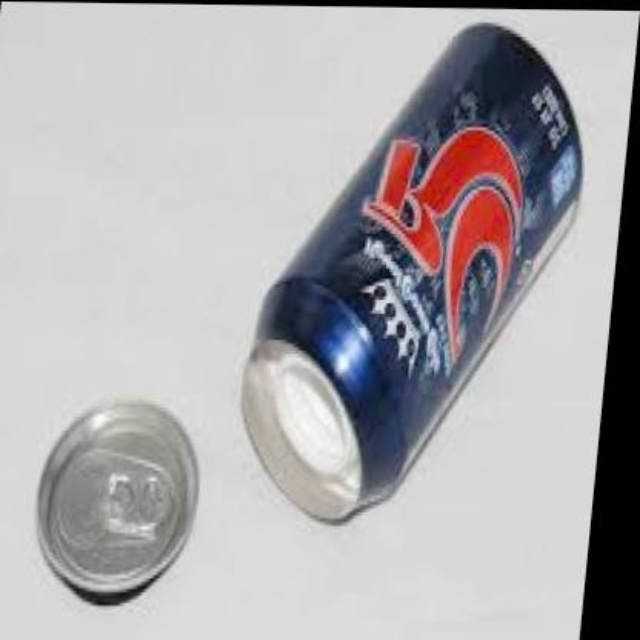trash: (243, 23, 580, 520), (38, 395, 197, 602)
